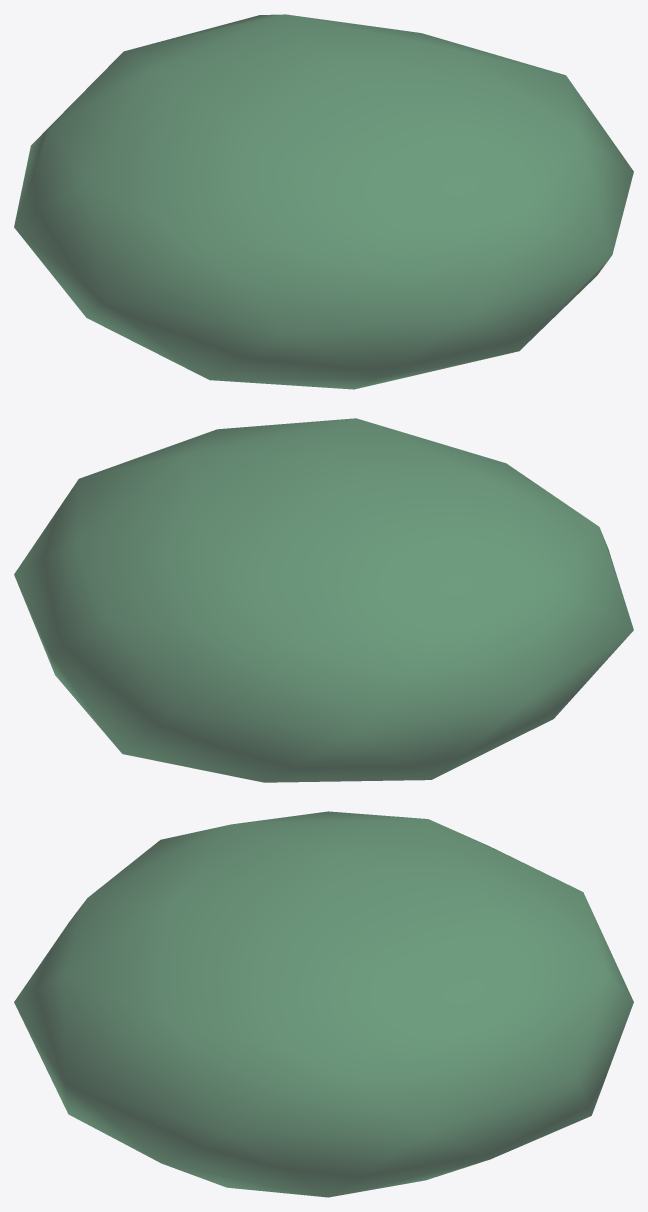
File: sea-glass-1.glb
3 views of the same model, one above another, from view 1: azimuth 30°, elevation 25°; view 2: azimuth 150°, elevation 25°; view 3: azimuth 270°, elevation 25° (orthographic). The views are drawn at different scales.
Parts seen in each view (by area): view 1: sea-glass-1; view 2: sea-glass-1; view 3: sea-glass-1.
Boxes of the visible parts, x1,y1,x2,y2 form: sea-glass-1: (14, 14, 633, 389); sea-glass-1: (14, 418, 633, 782); sea-glass-1: (14, 811, 633, 1197).
Size of the model in its own units: 0.3011 by 0.1553 by 0.3005.
